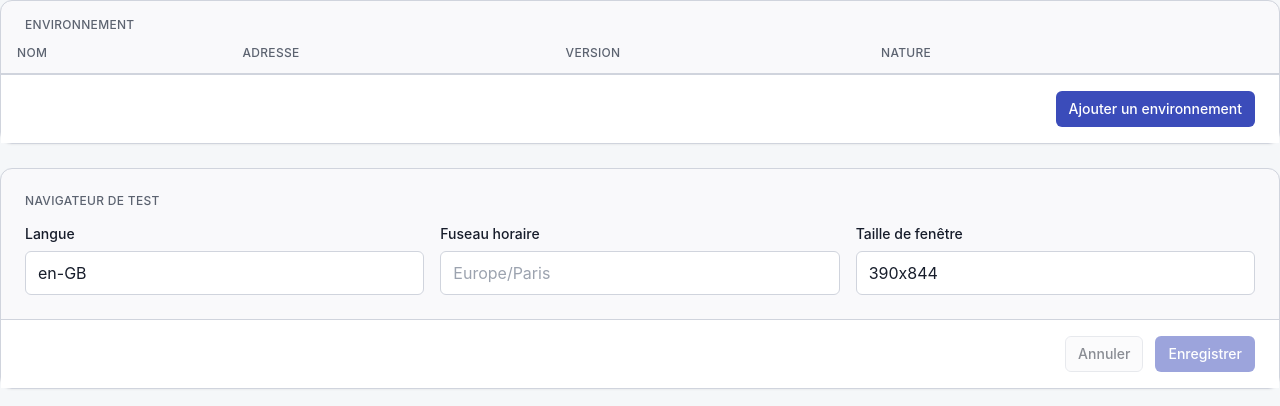
Test case: Paramètres de test — onglet Configurations › signale une modification non enregistrée, puis la lève à l'annulation
The image size is (1280, 406).
Type "fr-FR" into the field with test id "browser-locale".
click(225, 273); type("fr-FR")  # box 25,251 -> 424,295
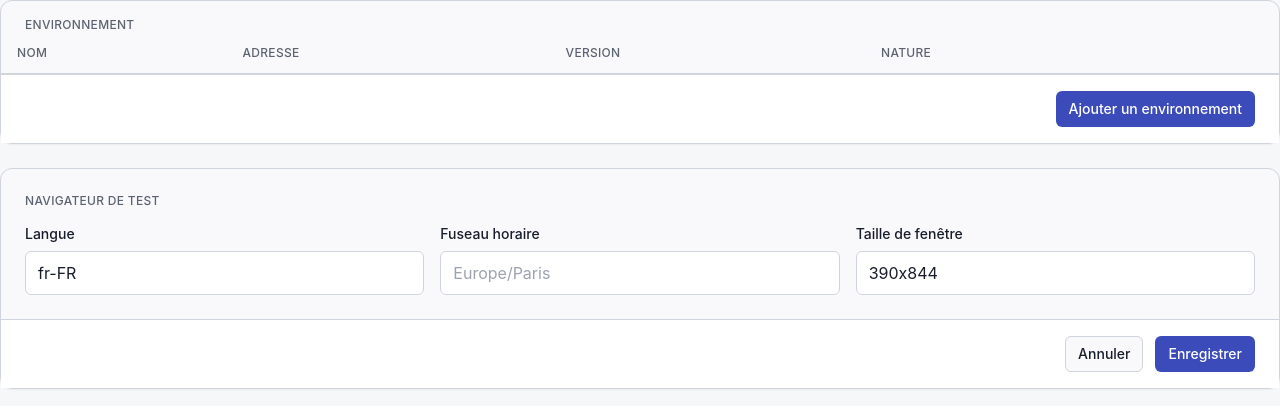
Click the button "Annuler".
click(1104, 354)  # box 1065,336 -> 1144,372
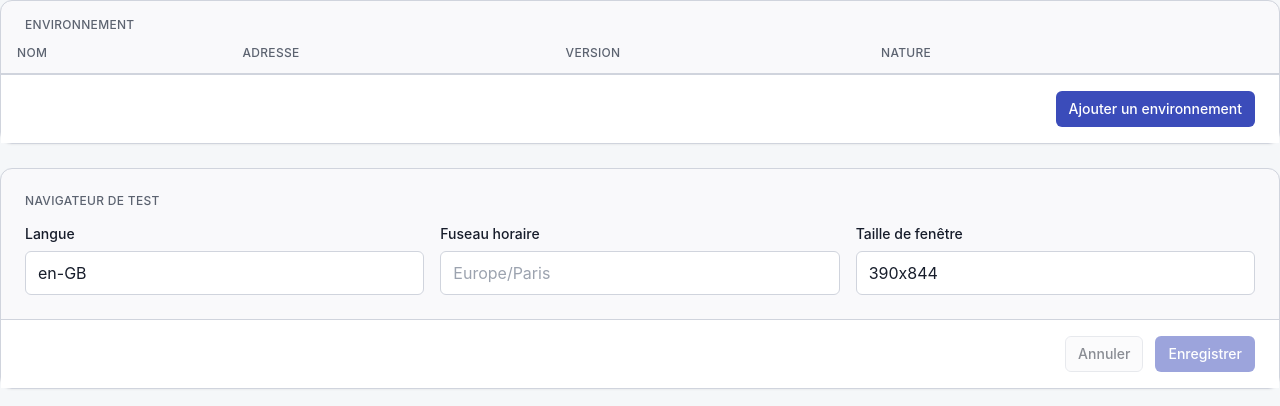
Expected: the field with test id "browser-locale" holds "en-GB", 25,251 -> 424,295
